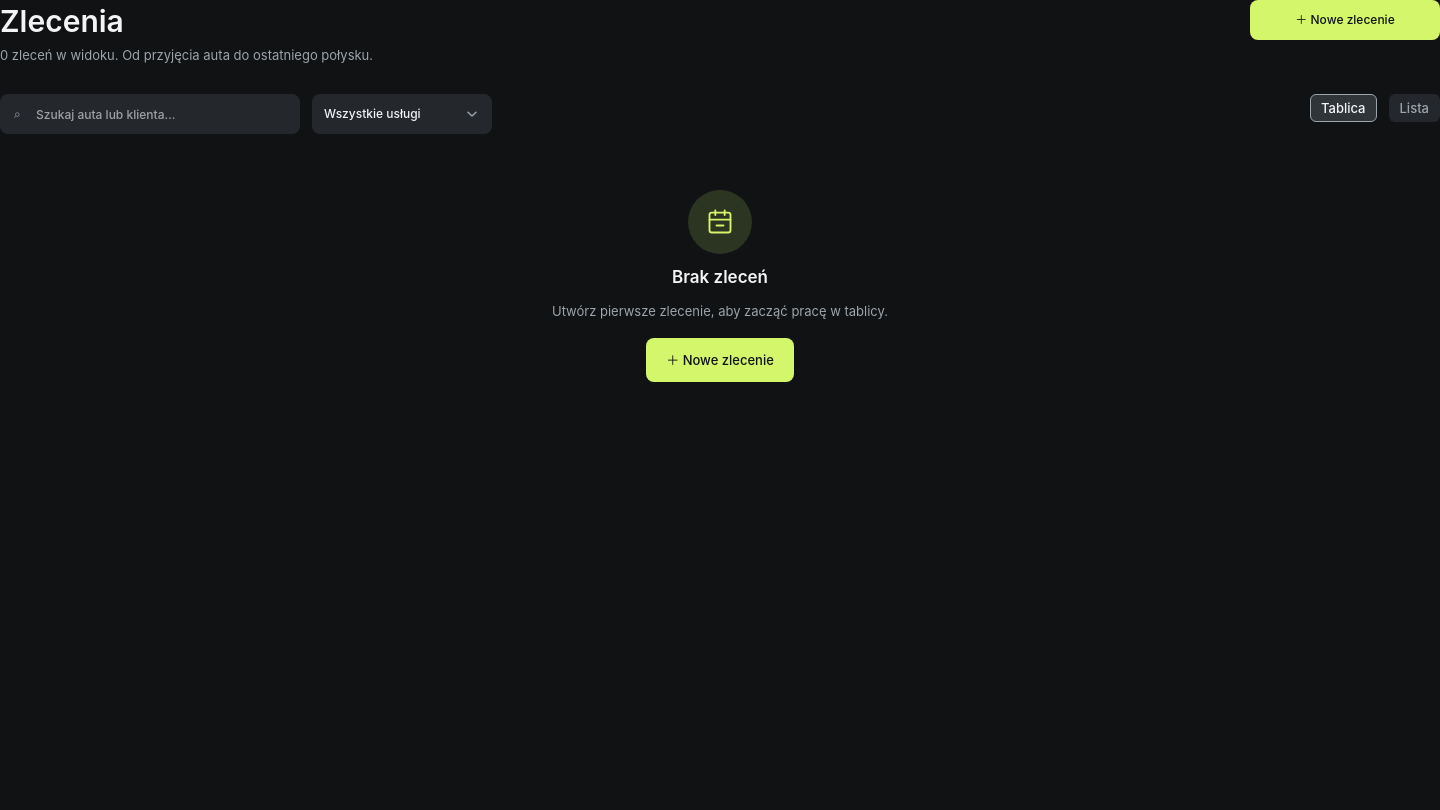
Test: posts a new order and keeps the form open with a 409 server error
The width and height of the screenshot is (1440, 810).
Click the button "＋ Nowe zlecenie" in the row of "Zlecenia": point(1345, 20) [1250,0,1439,40]
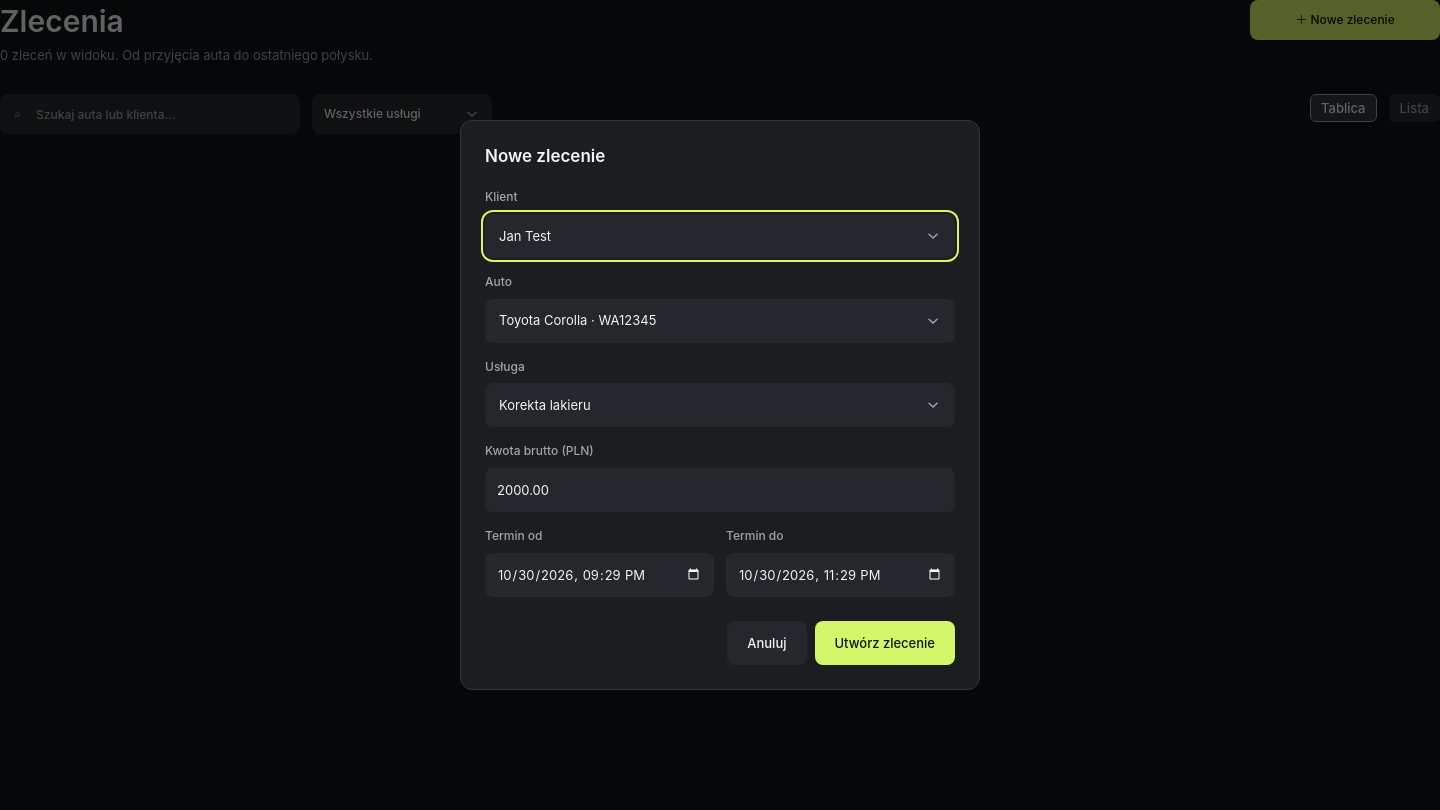
Click the dropdown named "Klient": point(525, 236) [485,214,955,258]
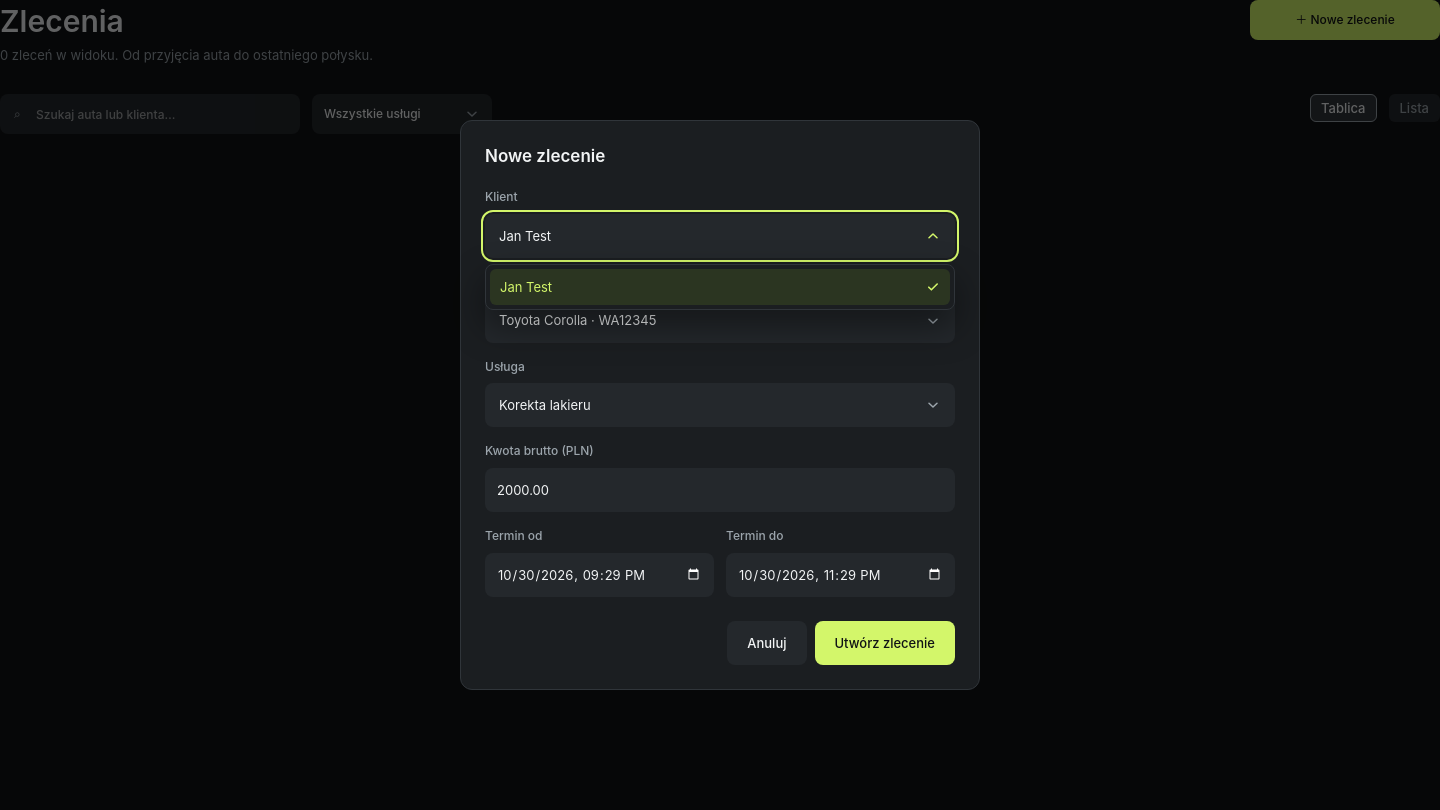
Click the option "Jan Test": point(526, 287) [490,269,950,305]
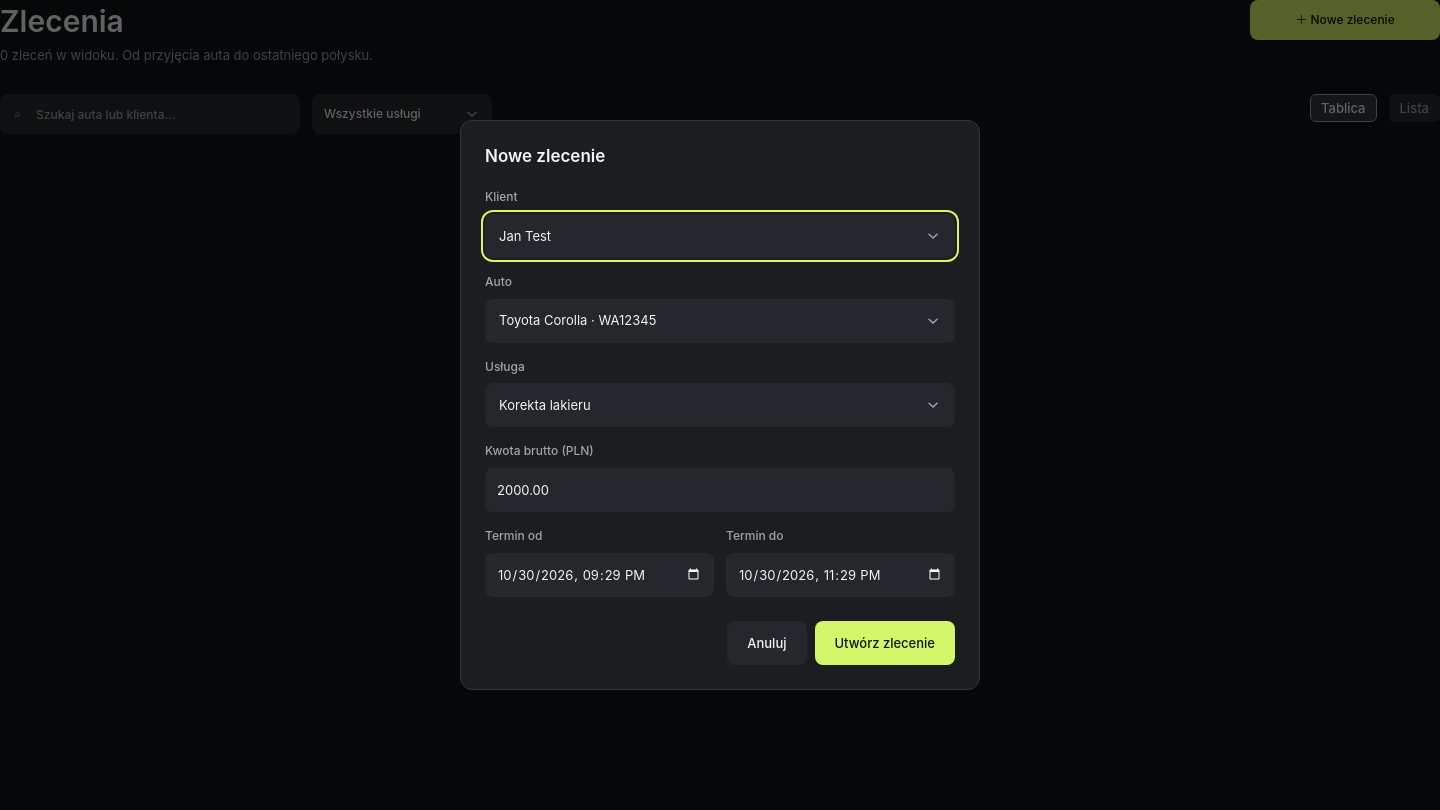
Click the dropdown named "Auto": point(578, 320) [485,298,955,342]
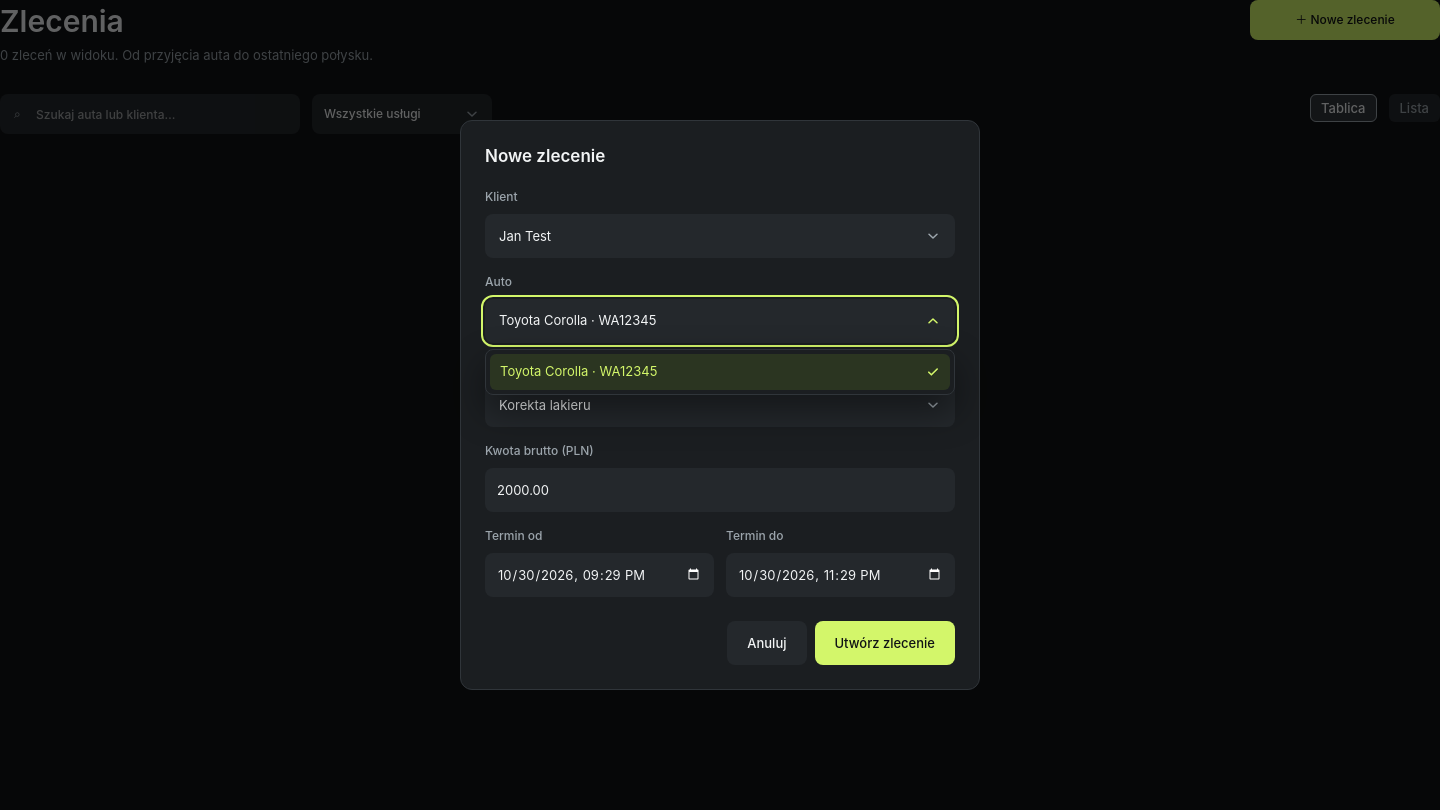
Click the option "Toyota Corolla · WA12345": point(579, 371) [490,354,950,390]
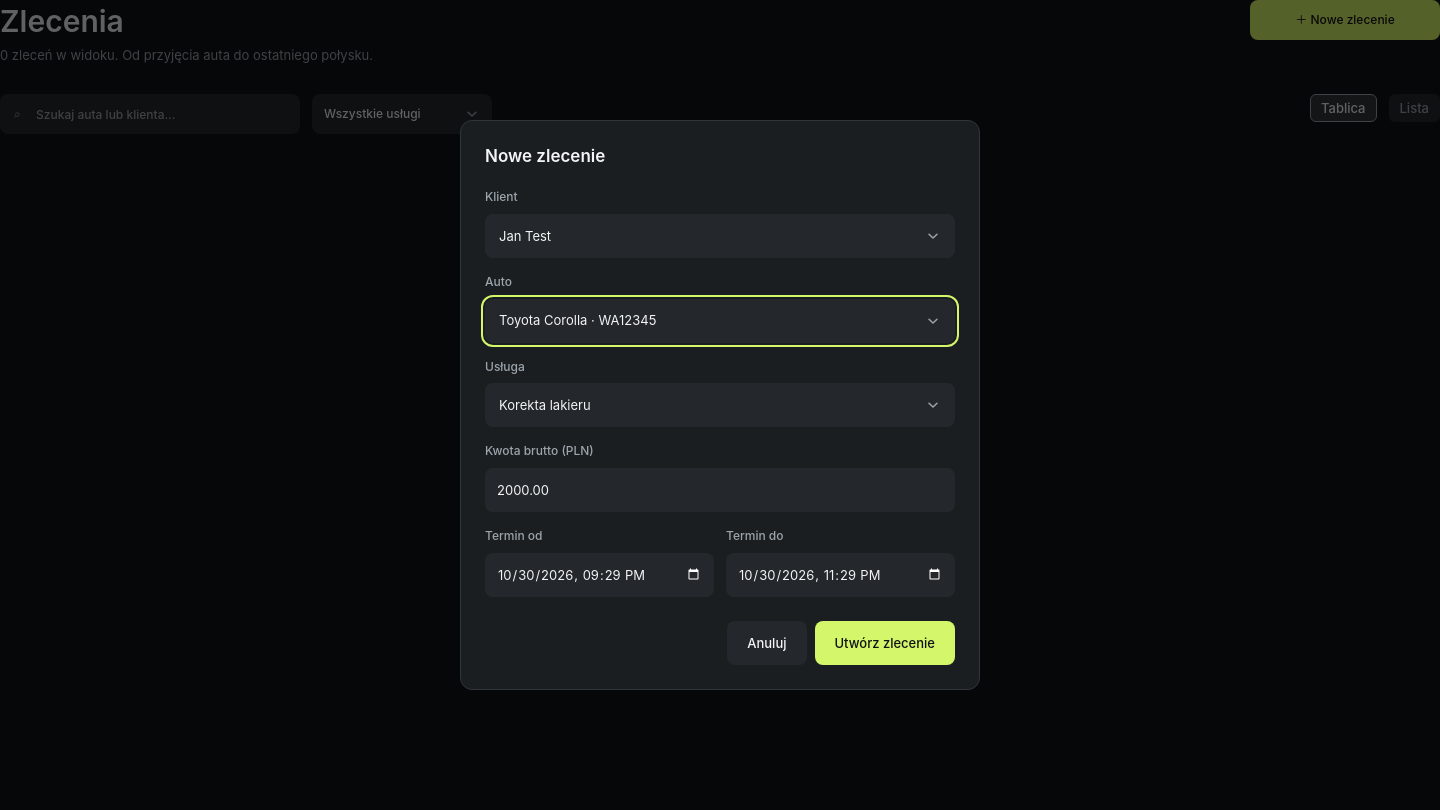
Click the button "Utwórz zlecenie": point(885, 643) [814,621,955,665]
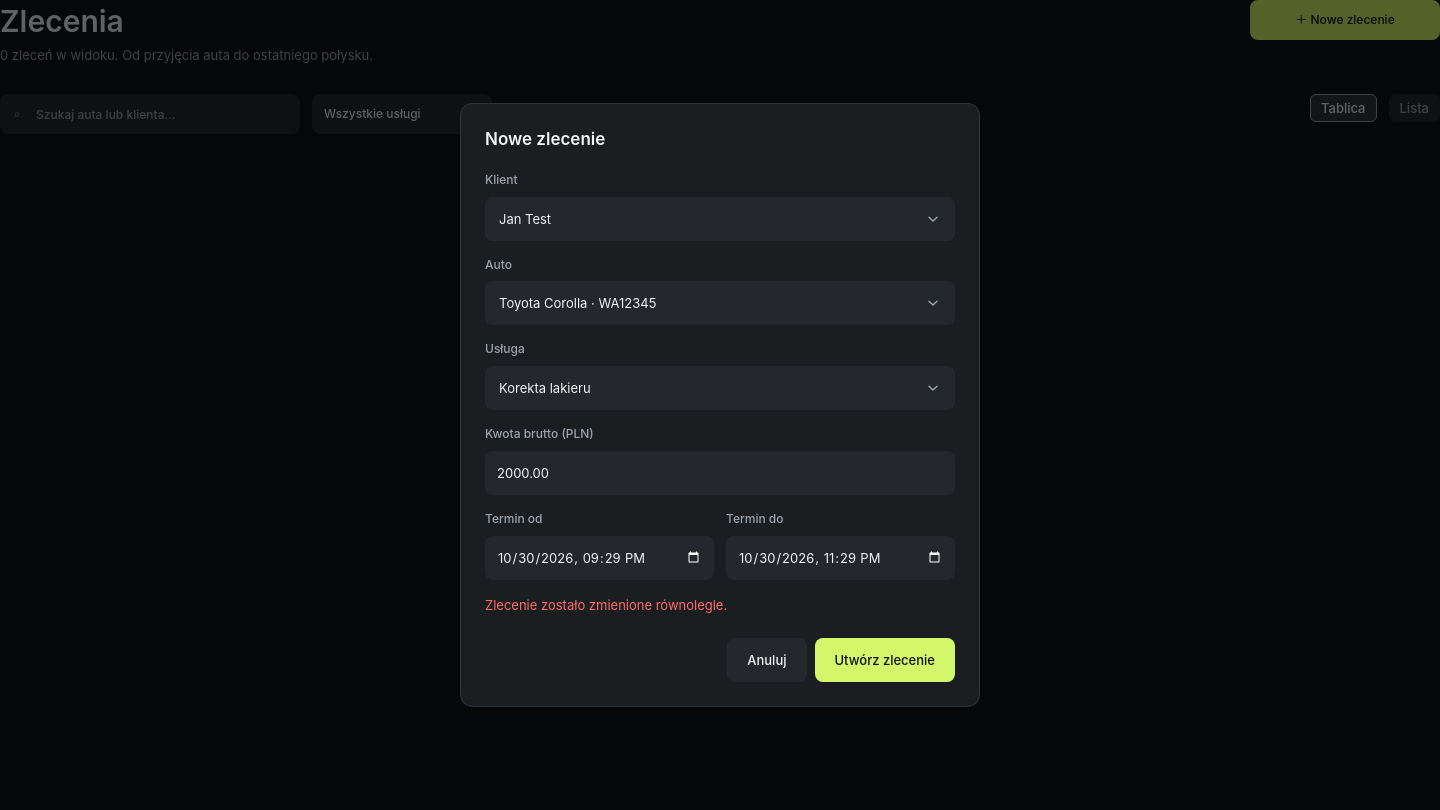
Now the message reads "Zlecenie zostało zmienione równolegle.", box [485,597,727,613]
